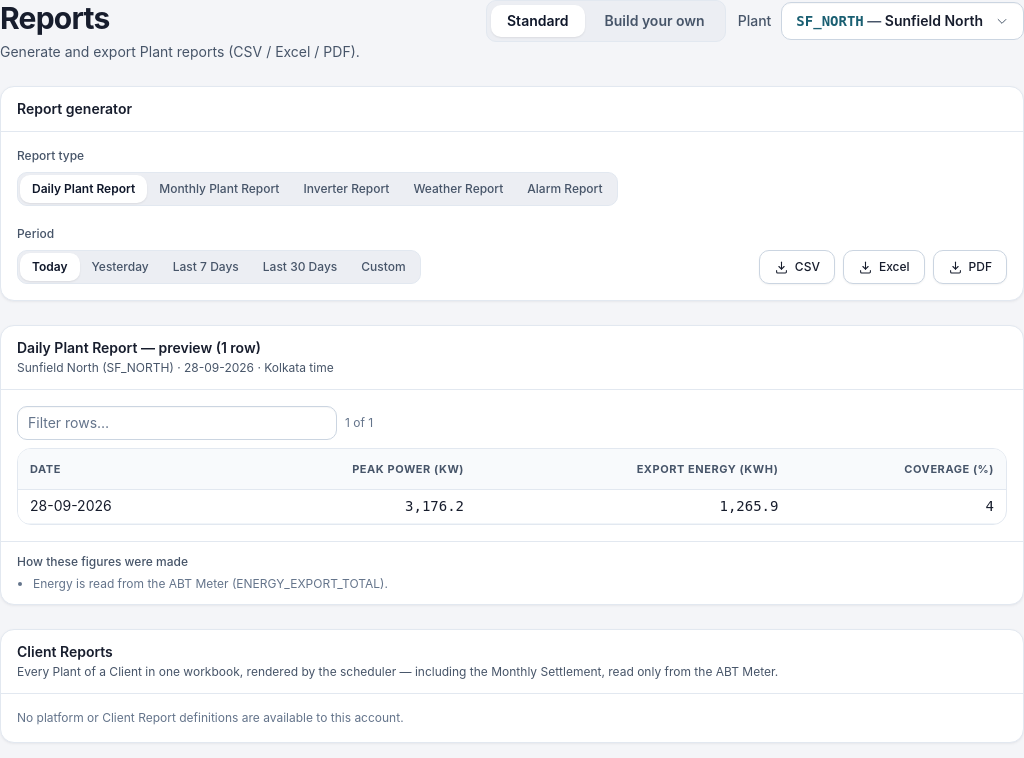
Test: Reports screen › asks for the period by name and swaps the rows when it changes
Expected: the heading "Daily Plant Report — preview (1 row)" is shown, [17, 339, 261, 356]
Click the radio button labelled "Last 7 Days": (206, 267) [161, 253, 251, 281]
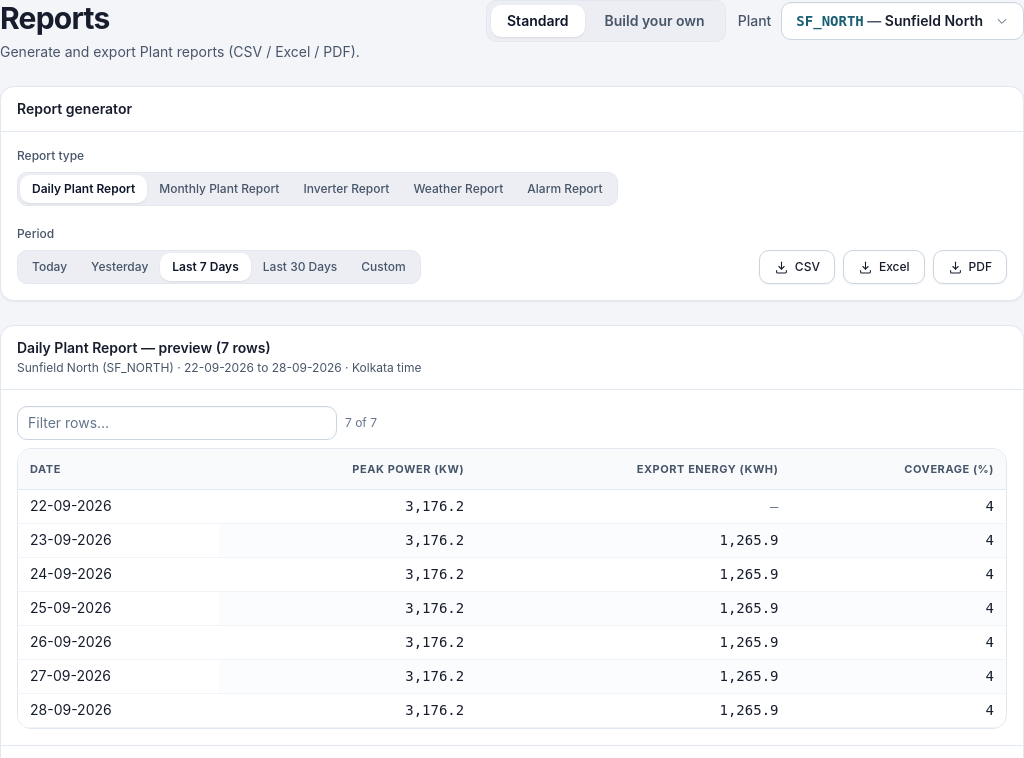
Result: the heading "Daily Plant Report — preview (7 rows)" is shown at [17, 339, 271, 356]
Result: the text "—" is shown at [770, 498, 778, 514]
